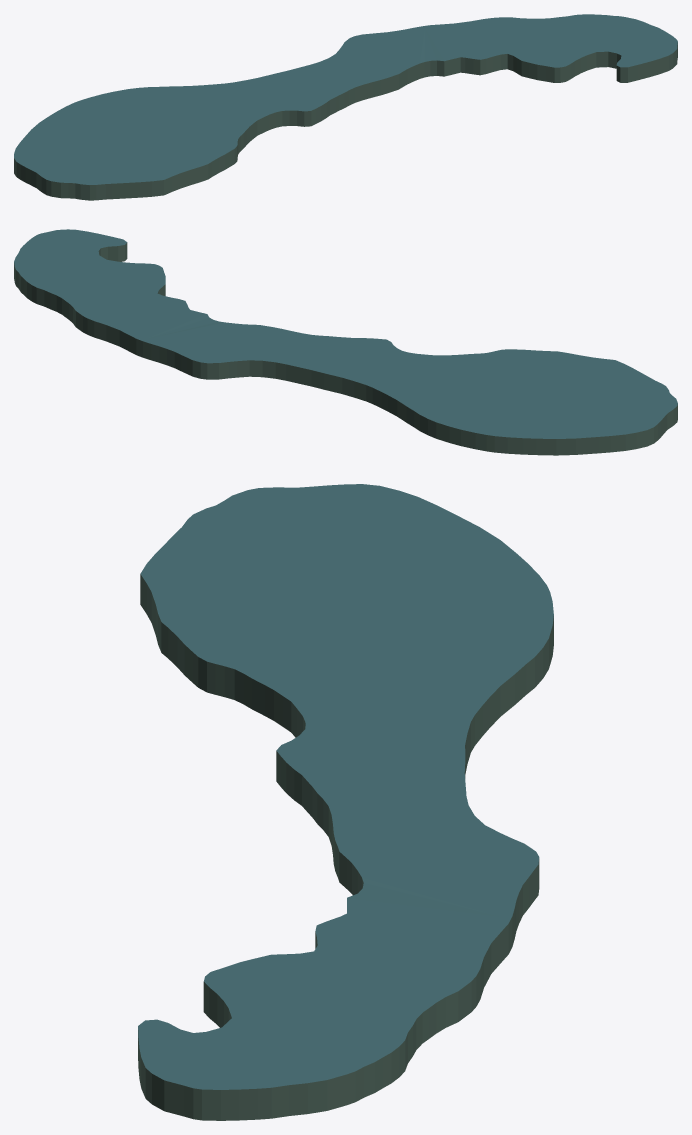
Rendered from Water_01.fbx.
The picture shows the model from 3 angles, top to bottom: view 1: azimuth 30°, elevation 25°; view 2: azimuth 150°, elevation 25°; view 3: azimuth 270°, elevation 25°; orthographic projection. The views are drawn at different scales.
Visible parts, largest first — view 1: Water_01; view 2: Water_01; view 3: Water_01.
Part boxes in pixels (box(x1,y1,x2,y2)): Water_01: box(14, 14, 677, 200); Water_01: box(14, 229, 677, 455); Water_01: box(138, 484, 553, 1120).
Bounding box in the file's own units: 93.37 × 2.24 × 27.08.
